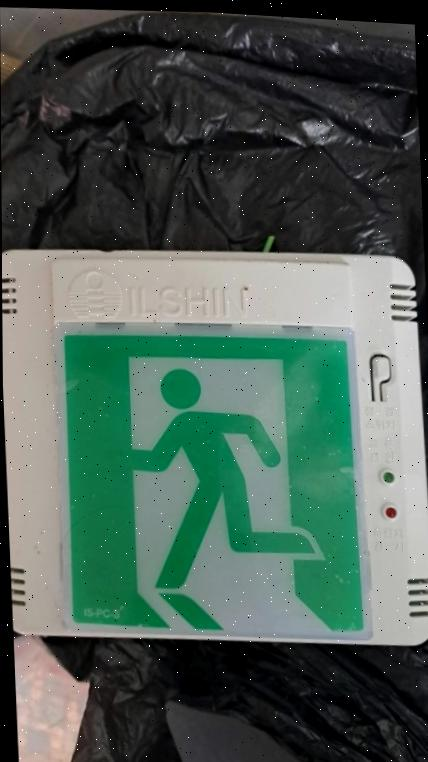emergency_exit: (3, 249, 426, 646), (56, 323, 370, 642)
